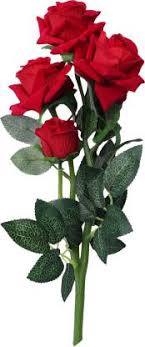lale: (78, 31, 145, 114), (28, 0, 114, 57), (10, 52, 72, 120), (30, 114, 90, 170)
